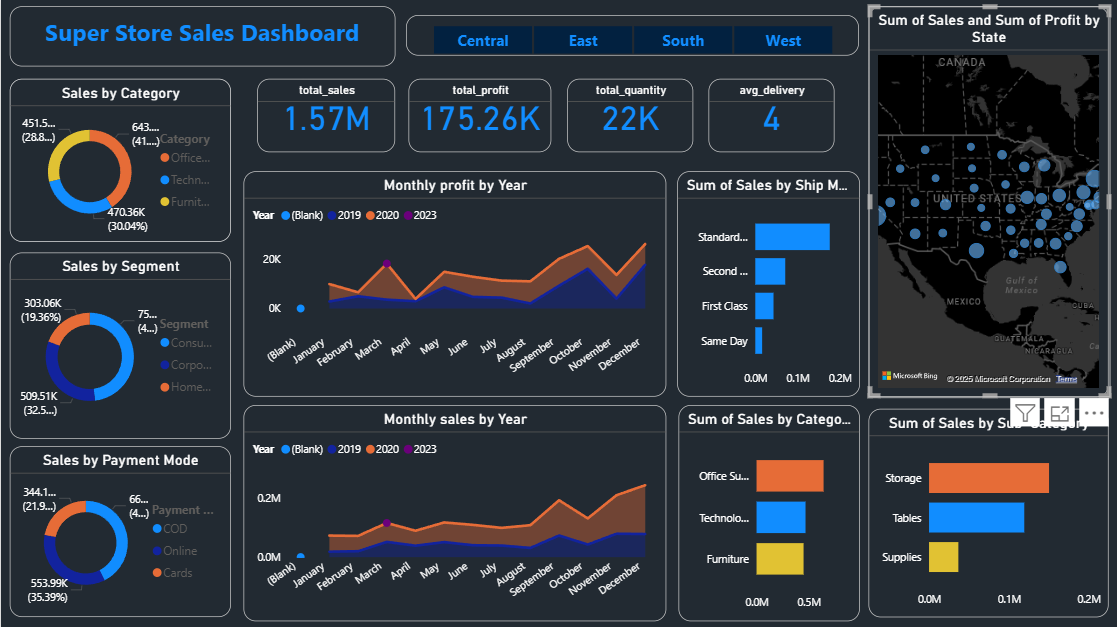

This screenshot's page, from the dashboard's own definition file:
{"tool":"powerbi","page":{"name":"Page 1","canvas":[1280,720],"ordinal":0},"visuals":[{"type":"clusteredBarChart","fields":{"Category":["SuperStore_Sales_Dataset (2).Category"],"Y":["Sum(SuperStore_Sales_Dataset (2).Sales)"]},"box":[773.9,462.4,207.2,247],"z":0},{"type":"clusteredBarChart","fields":{"Y":["Sum(SuperStore_Sales_Dataset (2).Sales)"],"Category":["SuperStore_Sales_Dataset (2).Sub-Category"]},"box":[992.1,466.6,274.4,238.8],"z":1000},{"type":"clusteredBarChart","fields":{"Y":["Sum(SuperStore_Sales_Dataset (2).Sales)"],"Category":["SuperStore_Sales_Dataset (2).Ship Mode"]},"box":[772.6,196.2,208.6,258],"z":2000},{"type":"stackedAreaChart","title":" Monthly profit by Year","fields":{"Category":["SuperStore_Sales_Dataset (2).Order Date.Variation.Date Hierarchy.Month","SuperStore_Sales_Dataset (2).Order Date.Variation.Date Hierarchy.Day"],"Series":["SuperStore_Sales_Dataset (2).Order Date.Variation.Date Hierarchy.Year"],"Y":["Sum(SuperStore_Sales_Dataset (2).Profit)"]},"box":[277.2,196.2,483,258],"z":3000},{"type":"stackedAreaChart","title":" Monthly sales by Year","fields":{"Category":["SuperStore_Sales_Dataset (2).Order Date.Variation.Date Hierarchy.Month","SuperStore_Sales_Dataset (2).Order Date.Variation.Date Hierarchy.Day"],"Y":["Sum(SuperStore_Sales_Dataset (2).Sales)"],"Series":["SuperStore_Sales_Dataset (2).Order Date.Variation.Date Hierarchy.Year"]},"box":[277.2,462.4,483,247],"z":4000},{"type":"map","fields":{"Category":["SuperStore_Sales_Dataset (2).State"],"Size":["Sum(SuperStore_Sales_Dataset (2).Sales)"]},"box":[992.1,6.9,274.4,447.3],"z":5000},{"type":"donutChart","title":"Sales by Segment","fields":{"Category":["SuperStore_Sales_Dataset (2).Segment"],"Y":["Sum(SuperStore_Sales_Dataset (2).Sales)"]},"box":[9.6,288.2,252.5,212.7],"z":6000},{"type":"donutChart","title":"Sales by Payment Mode","fields":{"Y":["Sum(SuperStore_Sales_Dataset (2).Sales)"],"Category":["SuperStore_Sales_Dataset (2).Payment Mode"]},"box":[9.6,510.5,252.5,194.9],"z":7000},{"type":"donutChart","title":" Sales by Category","fields":{"Y":["Sum(SuperStore_Sales_Dataset (2).Sales)"],"Category":["SuperStore_Sales_Dataset (2).Category"]},"box":[9.6,90.6,252.5,186.6],"z":8000},{"type":"slicer","fields":{"Values":["SuperStore_Sales_Dataset (2).Region"]},"box":[462.4,17.8,517.3,46.7],"z":9000},{"type":"textbox","box":[9.6,6.9,440.5,68.6],"z":10000},{"type":"card","title":"total_sales","fields":{"Values":["Sum(SuperStore_Sales_Dataset (2).Sales)"]},"box":[292.3,90.6,157.8,83.7],"z":11000},{"type":"card","title":"avg_delivery","fields":{"Values":["Avg(SuperStore_Sales_Dataset (2).avg_delivery)"]},"box":[808.2,90.6,144.1,83.7],"z":12000},{"type":"card","title":"total_quantity","fields":{"Values":["Sum(SuperStore_Sales_Dataset (2).Quantity)"]},"box":[647.7,90.6,144.1,83.7],"z":13000},{"type":"card","title":"total_profit","fields":{"Values":["Sum(SuperStore_Sales_Dataset (2).Profit)"]},"box":[465.2,90.6,163.3,83.7],"z":14000}]}

Visuals, with their boxes in screenshot pixels (x1, y1, x2, y2), scaled from the page's 1280x720 canvas onto the 1117x627 screenshot:
clusteredBarChart - SuperStore_Sales_Dataset (2).Category x Sum(SuperStore_Sales_Dataset (2).Sales): BBox(675, 403, 856, 618)
clusteredBarChart - Sum(SuperStore_Sales_Dataset (2).Sales) x SuperStore_Sales_Dataset (2).Sub-Category: BBox(866, 406, 1105, 614)
clusteredBarChart - Sum(SuperStore_Sales_Dataset (2).Sales) x SuperStore_Sales_Dataset (2).Ship Mode: BBox(674, 171, 856, 396)
" Monthly profit by Year" stackedAreaChart: BBox(242, 171, 663, 396)
" Monthly sales by Year" stackedAreaChart: BBox(242, 403, 663, 618)
map - SuperStore_Sales_Dataset (2).State x Sum(SuperStore_Sales_Dataset (2).Sales): BBox(866, 6, 1105, 396)
"Sales by Segment" donutChart: BBox(8, 251, 229, 436)
"Sales by Payment Mode" donutChart: BBox(8, 445, 229, 614)
" Sales by Category" donutChart: BBox(8, 79, 229, 241)
slicer - SuperStore_Sales_Dataset (2).Region: BBox(404, 16, 855, 56)
textbox: BBox(8, 6, 393, 66)
"total_sales" card: BBox(255, 79, 393, 152)
"avg_delivery" card: BBox(705, 79, 831, 152)
"total_quantity" card: BBox(565, 79, 691, 152)
"total_profit" card: BBox(406, 79, 548, 152)
